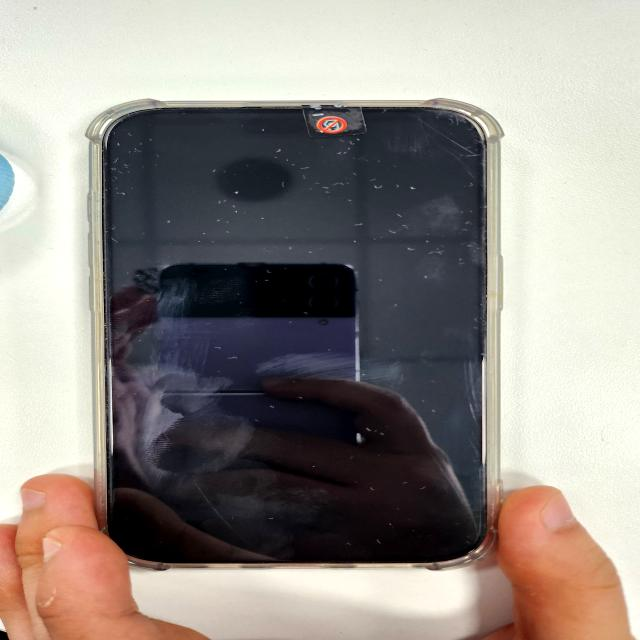phone: (93, 95, 503, 572)
sticker: (302, 103, 372, 137)
